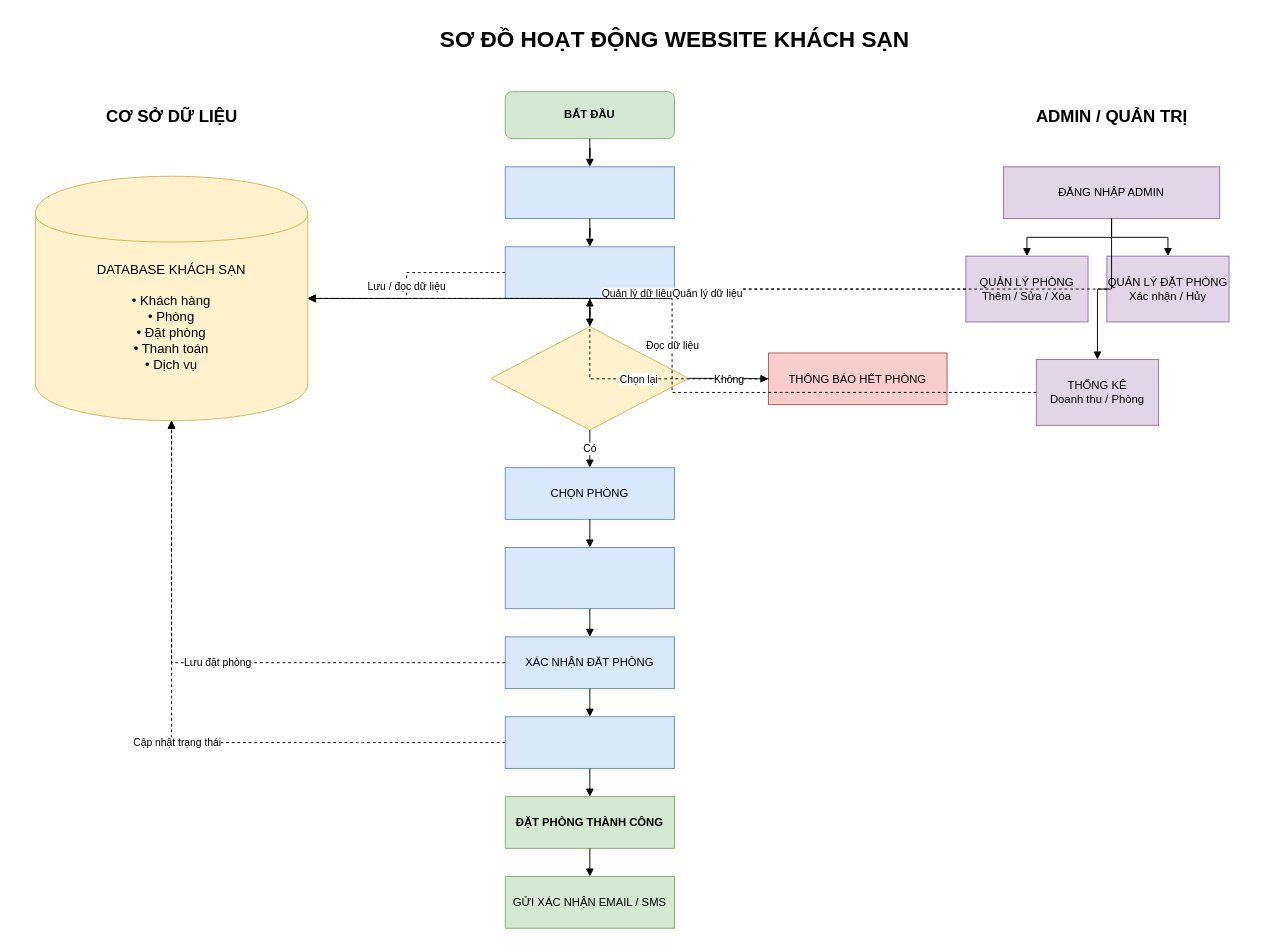
The diagram is 1282 pixels wide and 945 high, and some of its shapes have lost their labels. Here are the shapes that lost their labels. From the top down, the centre of each, then its label:
At (x=589, y=192): "TRANG CHỦ WEB".
At (x=589, y=272): "TÌM / XEM PHÒNG".
At (x=589, y=378): "PHÒNG CÒN TRỐNG?".
At (x=589, y=578): "NHẬP THÔNG TIN KHÁCH HÀNG".
At (x=589, y=742): "THANH TOÁN".
